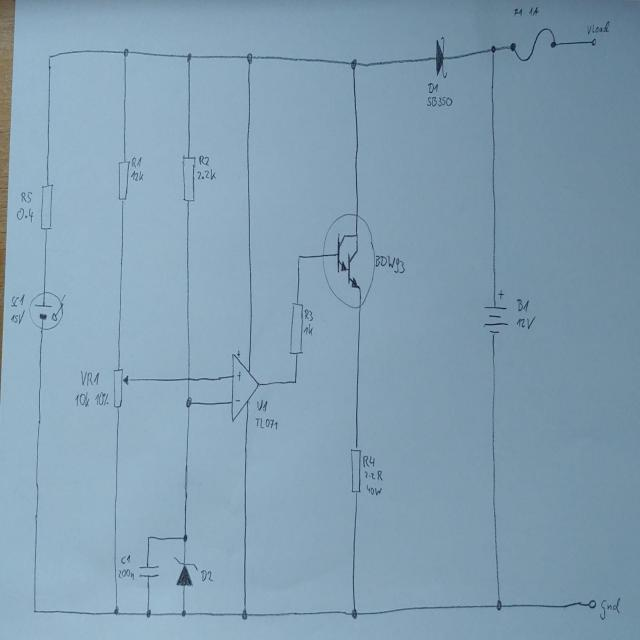capacitor: (136, 562, 160, 580)
crossover: (185, 374, 191, 383)
diode: (172, 554, 197, 586), (434, 35, 446, 79)
junction: (494, 596, 503, 612), (244, 51, 253, 65), (349, 56, 358, 70), (349, 607, 358, 620), (240, 607, 248, 621), (144, 607, 152, 618), (179, 607, 187, 618), (112, 605, 120, 616), (185, 50, 192, 62), (185, 396, 192, 408), (181, 532, 188, 543), (489, 43, 496, 54), (122, 47, 129, 57), (46, 52, 52, 62), (31, 606, 37, 616), (145, 532, 151, 541), (292, 377, 298, 385), (296, 253, 301, 260)
resistor: (288, 301, 304, 355), (110, 366, 129, 410), (180, 154, 196, 203), (39, 182, 54, 232), (348, 446, 362, 494), (116, 159, 130, 202)
source: (482, 290, 508, 336)
terminal: (584, 597, 598, 611), (589, 37, 596, 46)
text: (598, 594, 623, 621), (374, 252, 404, 274), (425, 93, 454, 108), (78, 368, 100, 387), (585, 20, 610, 36), (514, 313, 536, 331), (254, 415, 278, 431), (15, 205, 34, 222), (94, 390, 110, 408), (74, 390, 90, 408), (197, 167, 217, 181), (364, 468, 384, 482), (303, 304, 316, 325), (9, 308, 25, 325), (514, 296, 530, 312), (10, 291, 25, 308), (117, 566, 135, 580), (198, 567, 214, 582), (426, 80, 441, 94), (128, 155, 142, 170), (362, 453, 376, 467), (366, 483, 381, 496), (255, 397, 268, 412), (512, 5, 524, 19), (118, 553, 132, 565), (303, 322, 315, 336), (20, 190, 32, 203), (130, 170, 143, 182), (198, 154, 210, 166), (528, 4, 539, 17)
transistor: (322, 211, 375, 309)
